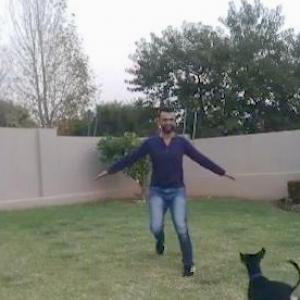land: (82, 79, 239, 292)
